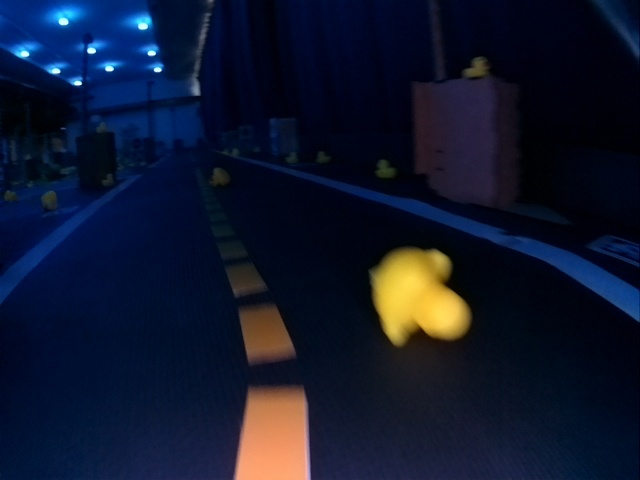Duckie: (369, 247, 469, 345), (462, 56, 490, 78), (376, 158, 396, 178), (209, 167, 229, 187), (41, 190, 57, 207), (286, 151, 296, 163), (318, 151, 329, 160), (102, 174, 111, 184)
QR code: (590, 234, 637, 268)
